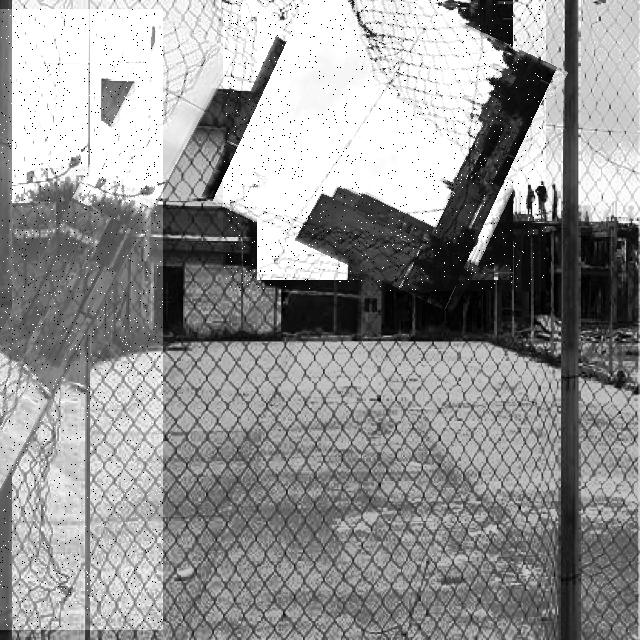anomaly-fence: (0, 9, 163, 630), (223, 0, 546, 291)
